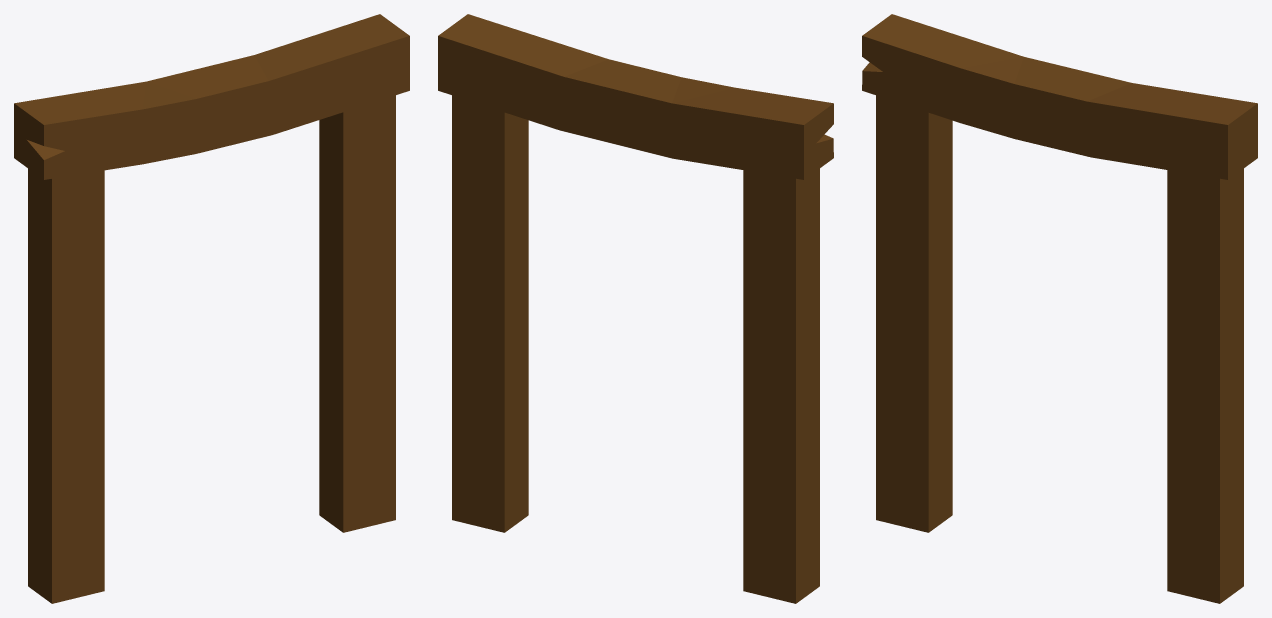
File: Door1_01.fbx
The picture shows the model from 3 angles, left to right: view 1: azimuth 30°, elevation 25°; view 2: azimuth 150°, elevation 25°; view 3: azimuth 330°, elevation 25°; orthographic projection.
Parts seen in each view (by area): view 1: Door1_01; view 2: Door1_01; view 3: Door1_01.
Part boxes in pixels (x1=…): Door1_01: x1=14, y1=14, x2=409, y2=603; Door1_01: x1=438, y1=14, x2=833, y2=603; Door1_01: x1=862, y1=14, x2=1257, y2=603.
Size of the model in its own units: 168 by 213 by 23.76.
